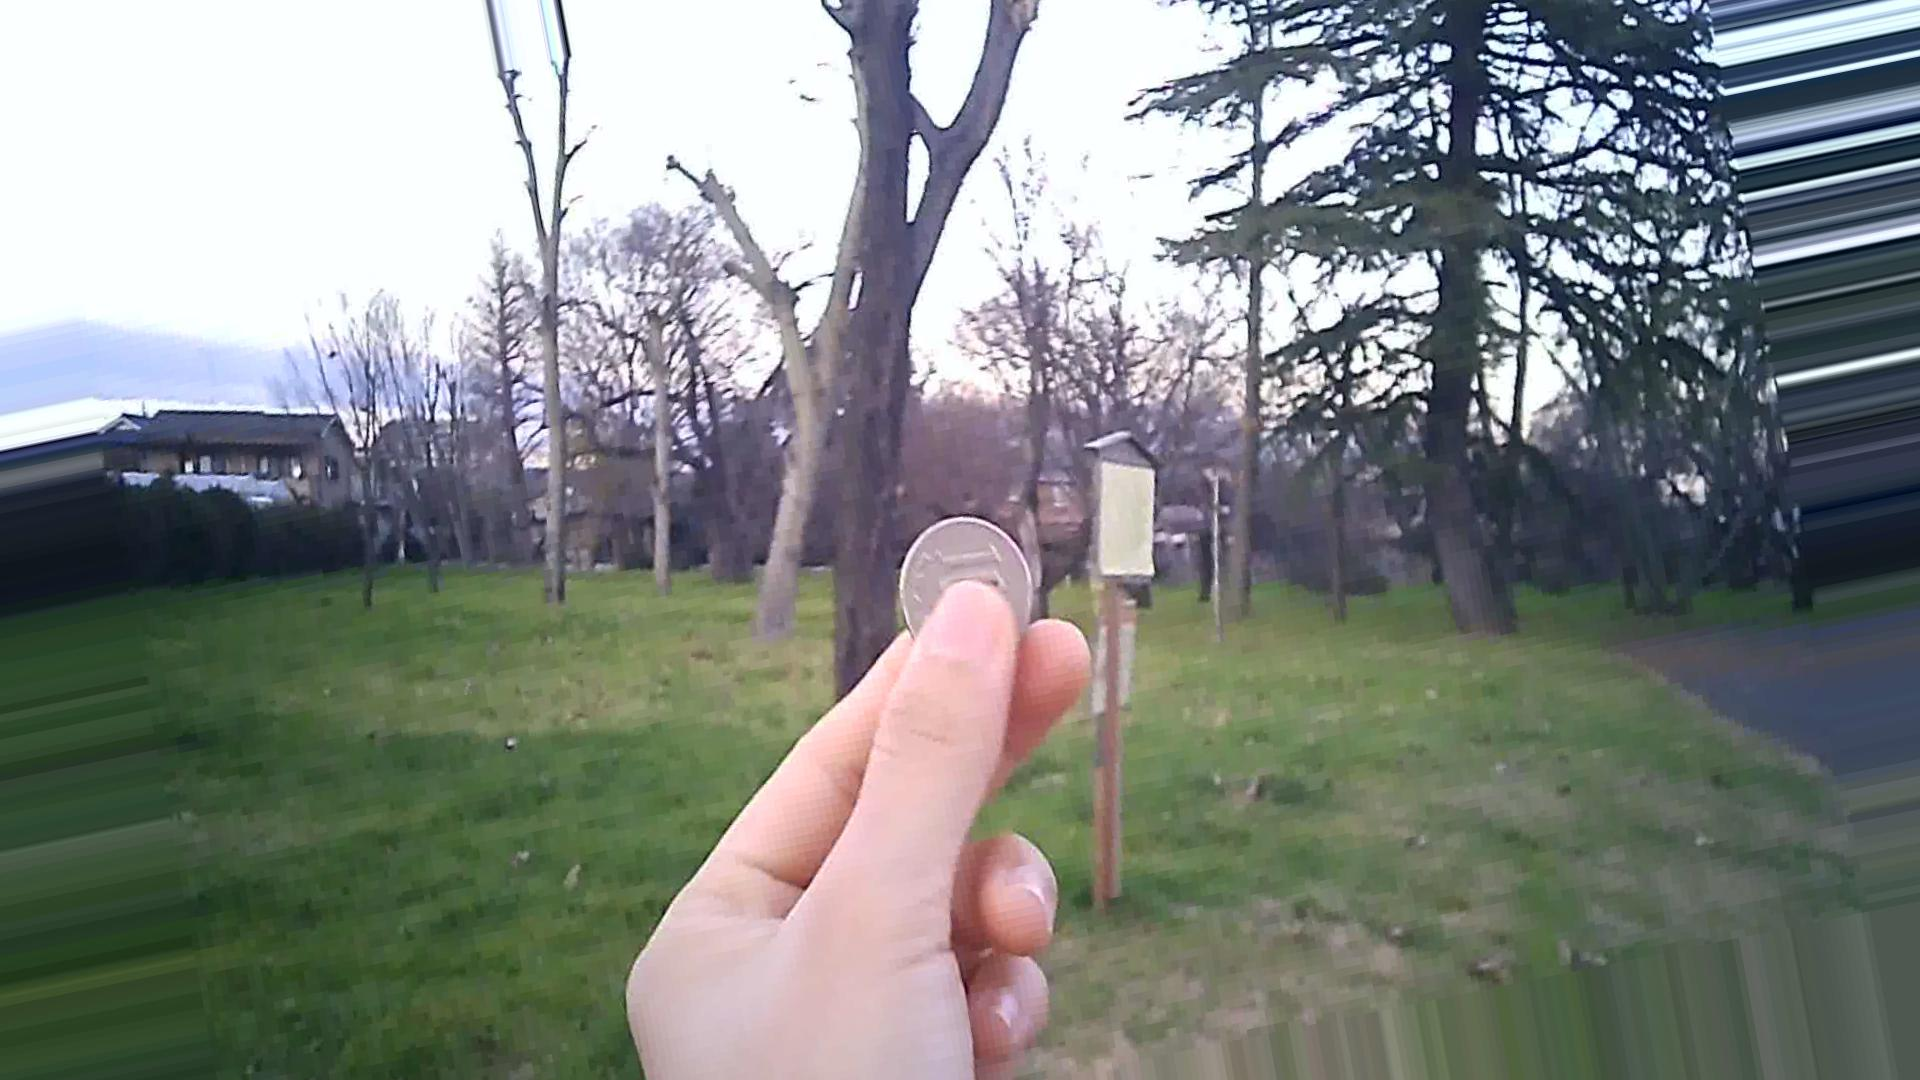100 Yen: (893, 512, 1050, 666)
